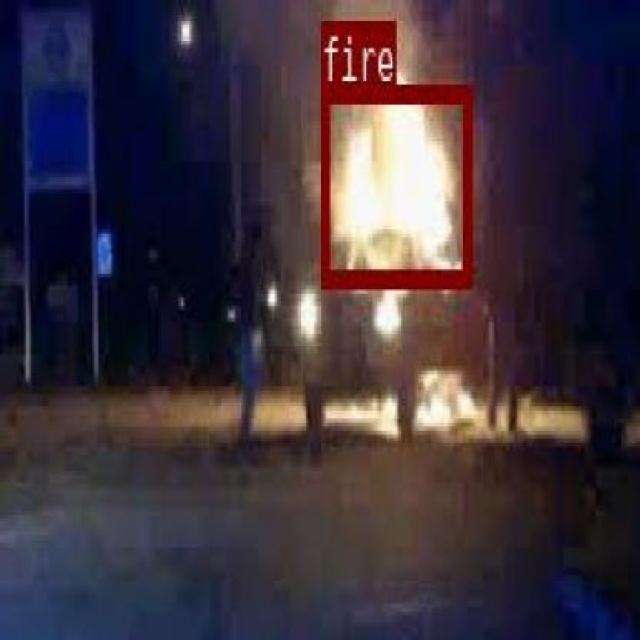Fire: (320, 82, 471, 284)
